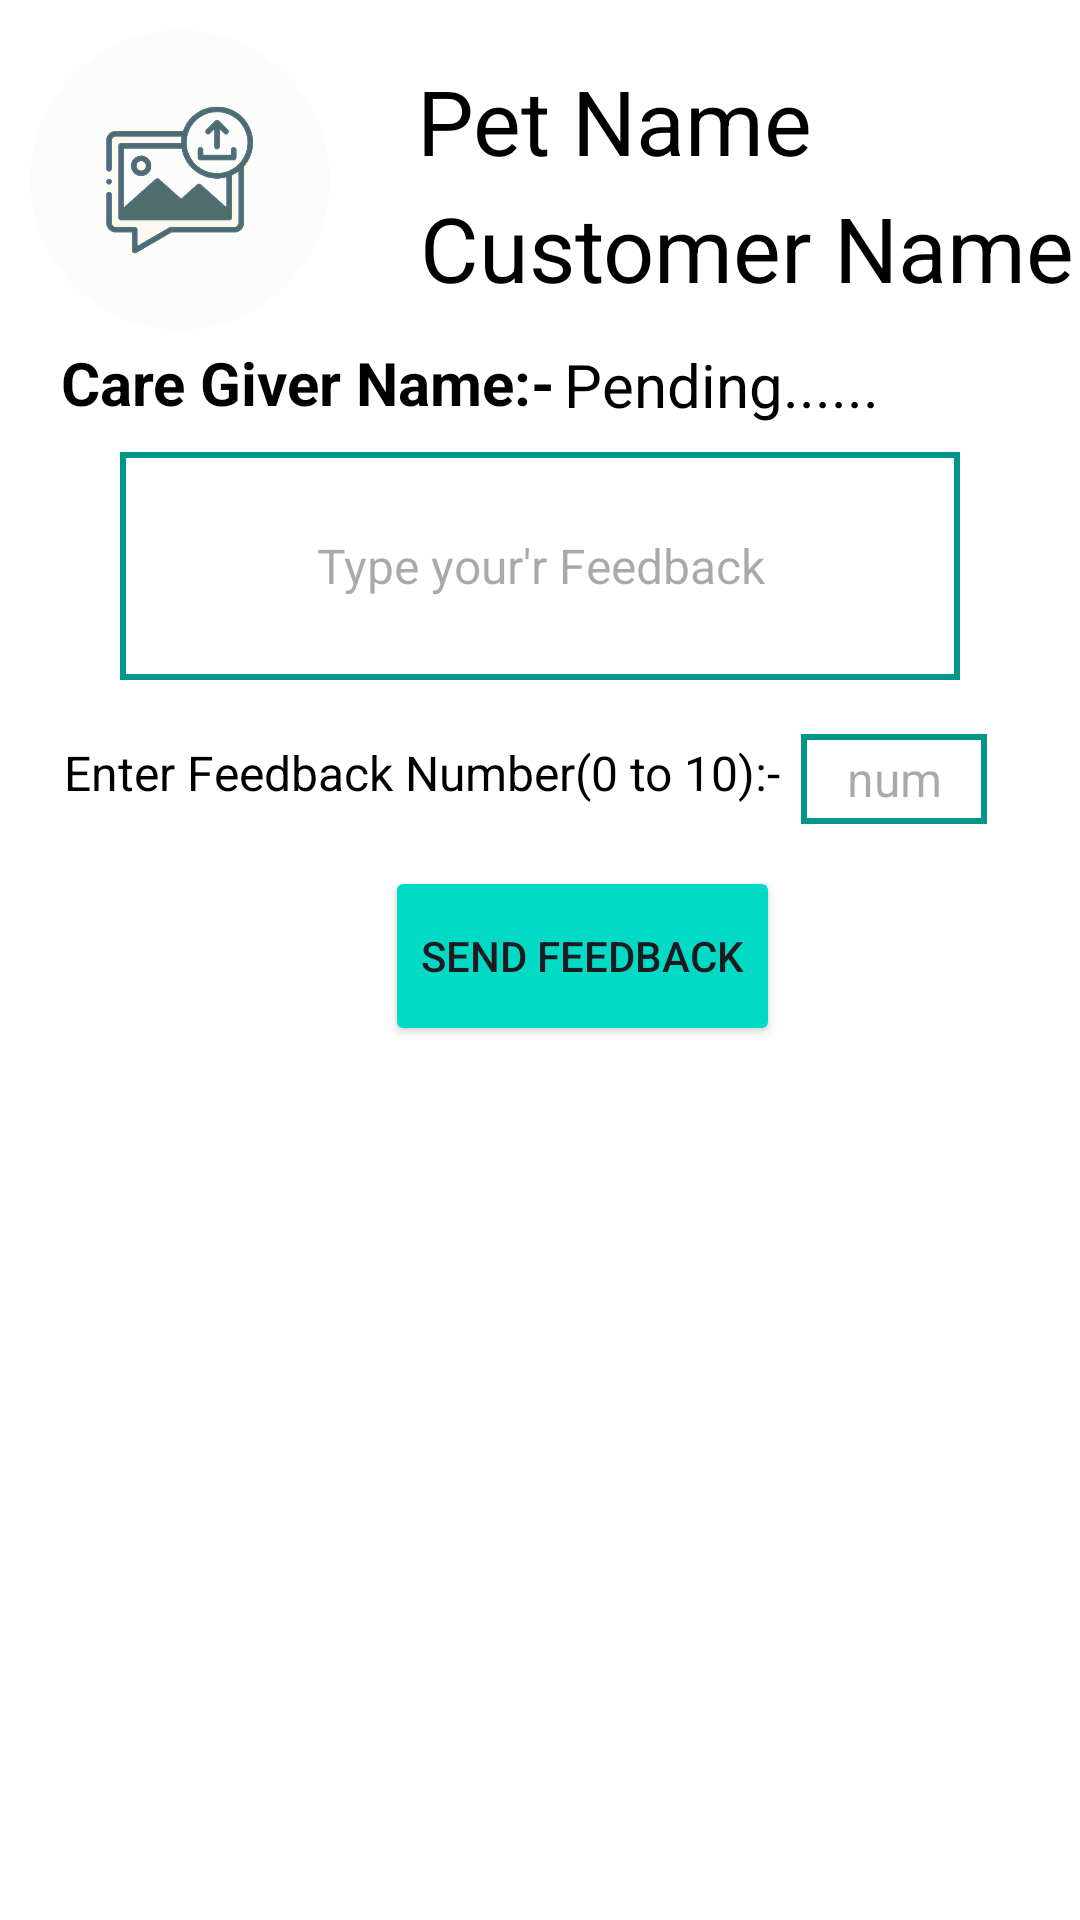

Icon bounding boxes for this 1080w x 1920h phone screenshot, format (x1, y1, x2, y2):
uploadimg: (106, 106, 254, 254)
